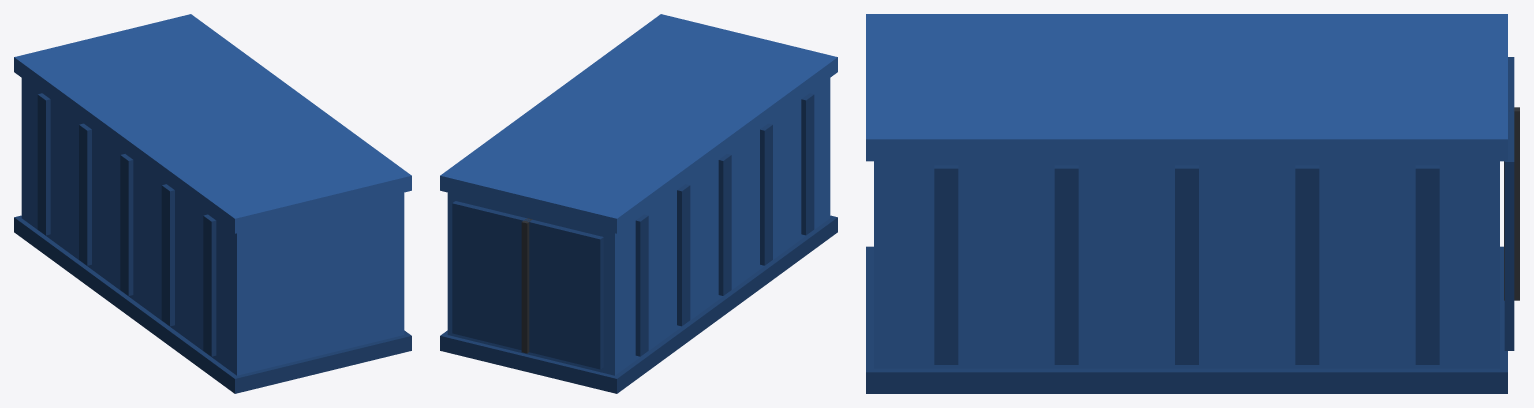
Rendered from conteiner_b.glb.
3 views of the same model, side by side, from view 1: azimuth 30°, elevation 25°; view 2: azimuth 150°, elevation 25°; view 3: azimuth 270°, elevation 25° (orthographic). The views are drawn at different scales.
Visible parts, largest first — view 1: corpo; view 2: corpo; view 3: corpo.
Boxes of the visible parts, <box> form: corpo: <box>14,14,411,393</box>; corpo: <box>440,14,837,393</box>; corpo: <box>866,14,1519,393</box>.
Bounding box in the file's own units: 0.37 × 0.35 × 0.815.
